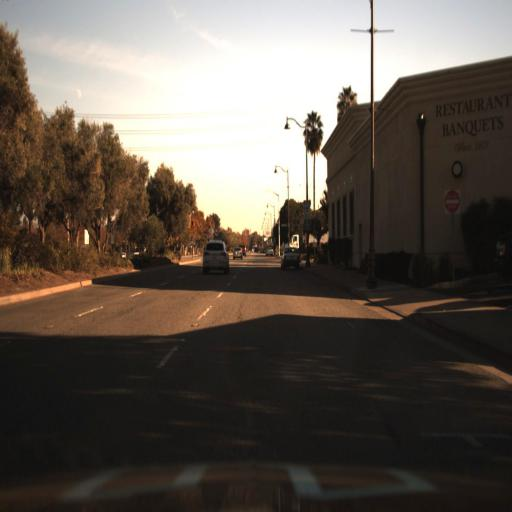car: (192, 232, 234, 282), (126, 235, 150, 268), (280, 243, 302, 271), (226, 242, 248, 268)
truck: (287, 231, 314, 259)
